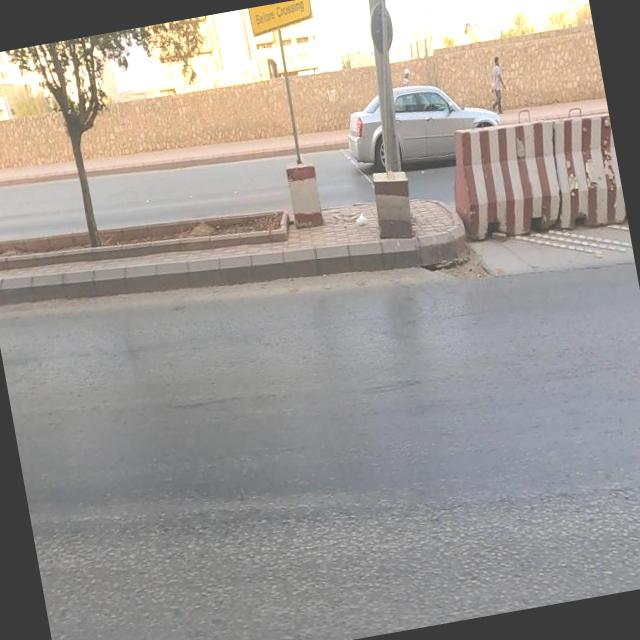debris: (334, 184, 388, 256)
